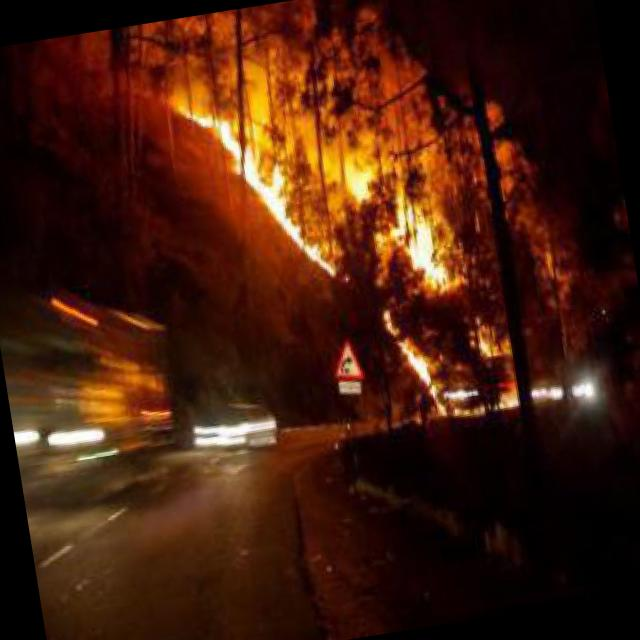fire: (210, 80, 348, 286), (344, 114, 468, 296), (381, 305, 450, 429)
